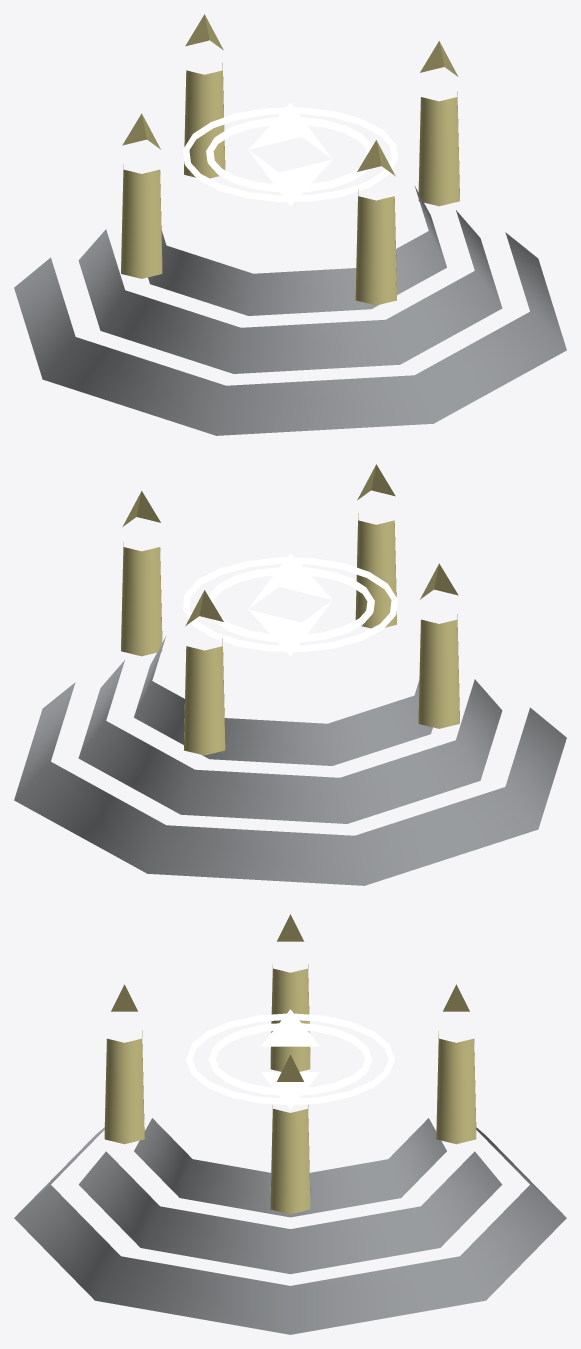
File: moksha_mahapeetham.glb
The picture shows the model from 3 angles, top to bottom: view 1: azimuth 30°, elevation 25°; view 2: azimuth 150°, elevation 25°; view 3: azimuth 270°, elevation 25°; orthographic projection. The views are drawn at different scales.
Parts seen in each view (by area): view 1: RootNode; view 2: RootNode; view 3: RootNode.
Part boxes in pixels (x1,y1,x2,y2): RootNode: [14, 14, 566, 435]; RootNode: [14, 464, 566, 885]; RootNode: [14, 914, 566, 1334].
Bounding box in the file's own units: 6 × 2.8 × 6.
